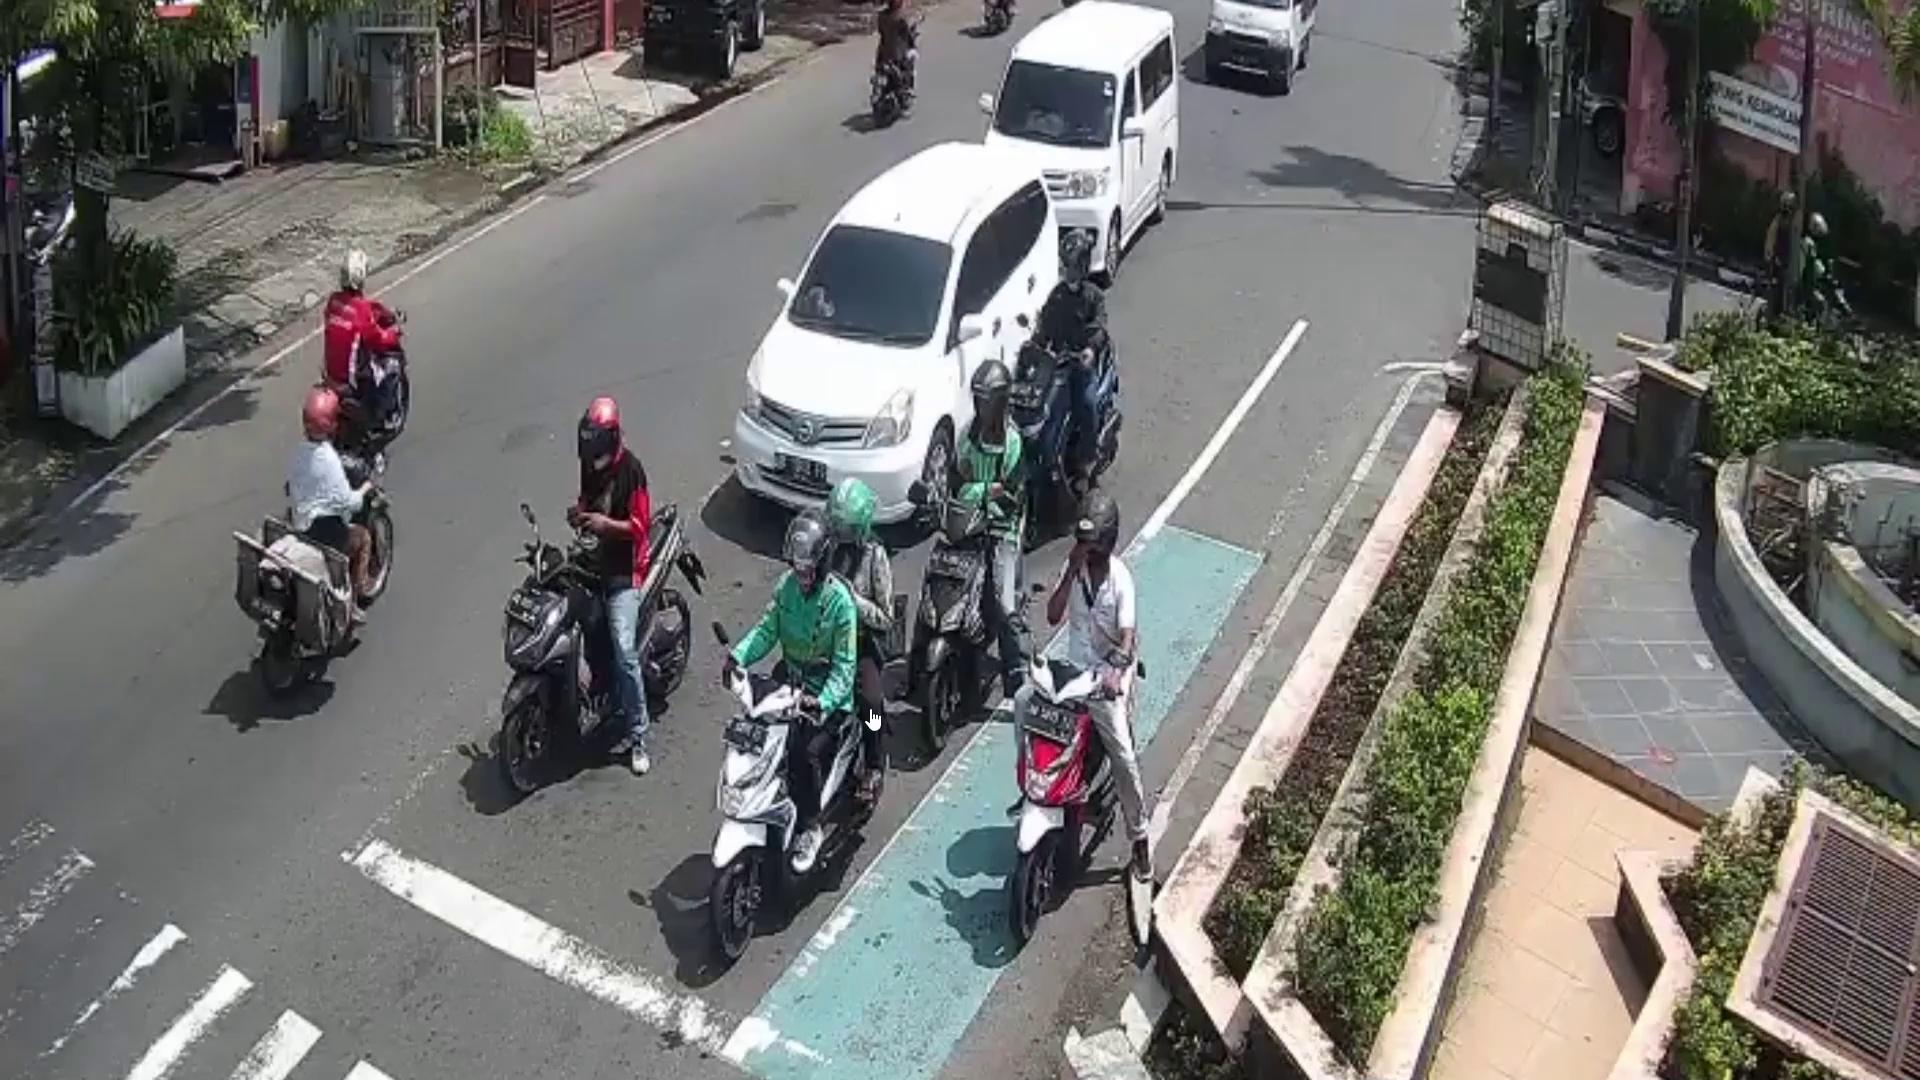car: (728, 137, 1062, 538), (989, 0, 1180, 273), (1207, 0, 1319, 99)
motorbike: (489, 501, 702, 800), (711, 669, 870, 959), (1013, 653, 1116, 936), (914, 501, 998, 753), (1013, 315, 1117, 504), (343, 301, 409, 434), (870, 21, 916, 125)
